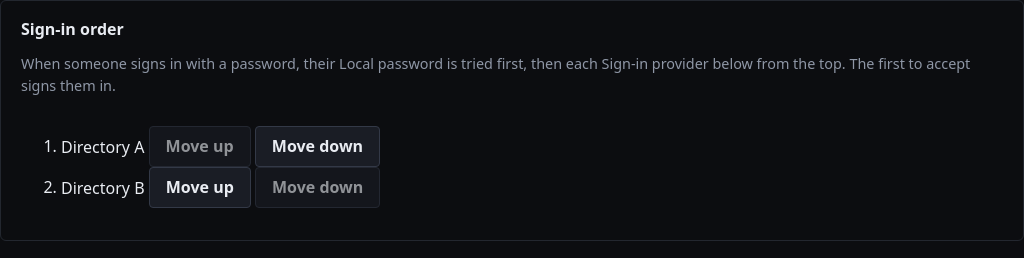
Test case: SignInProviderOrder › moves a provider up and saves the whole order
The image size is (1024, 258).
Click the button with test id "sign-in-order-up-dir-b" at (200, 187), box 149,167 -> 251,208
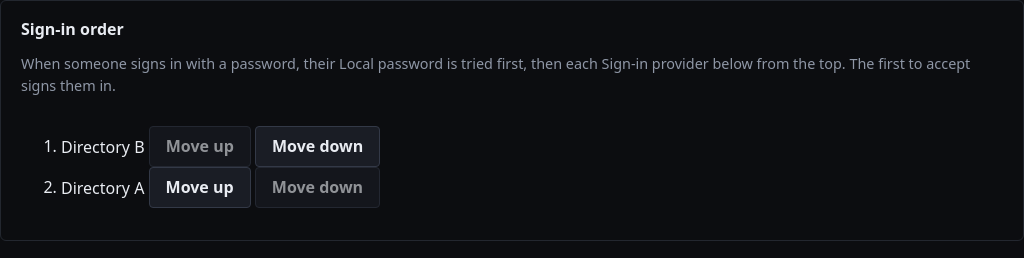
Expected: the list item "Directory B Move up Move down" is shown, 61,126 -> 380,167
Now the button with test id "sign-in-order-up-dir-b" is disabled, box 149,126 -> 251,167
